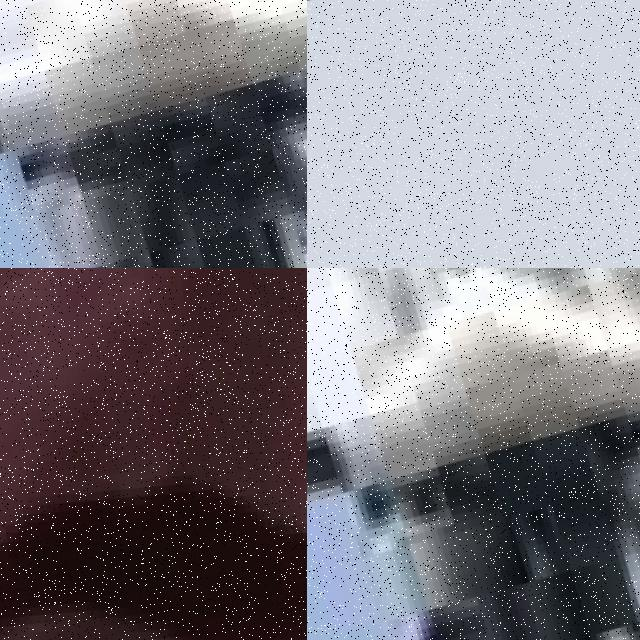drone: (307, 268, 640, 640), (0, 0, 307, 268)
